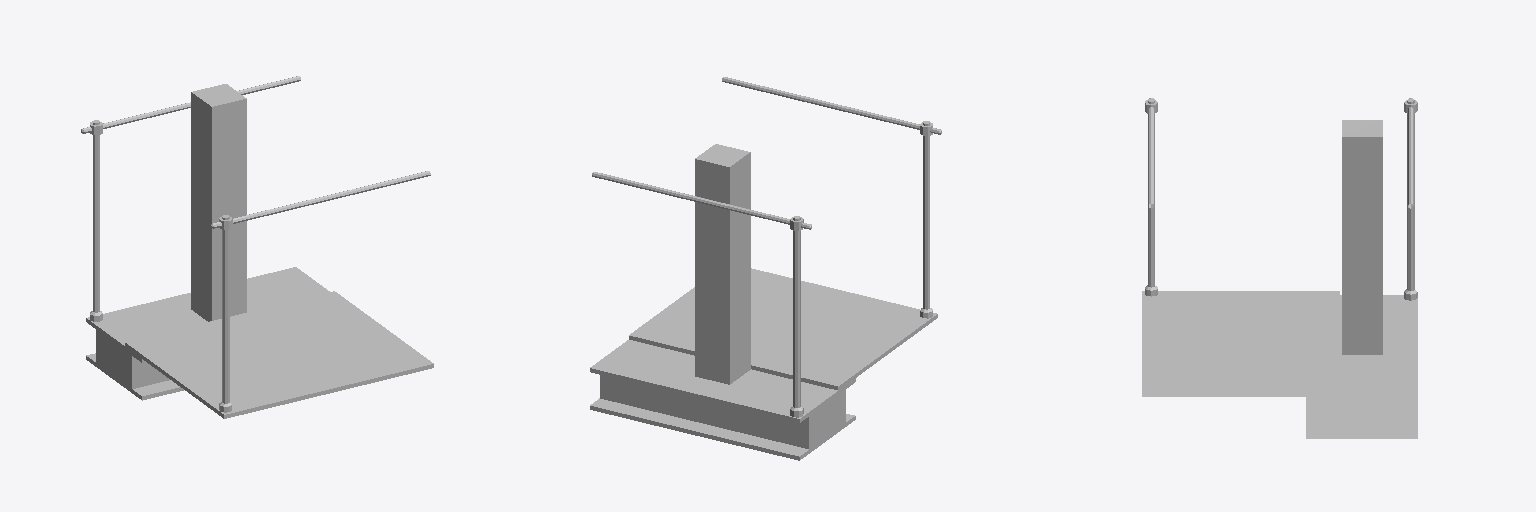
Rendered from lms_signal_gantry_platform_left_post.obj.
3 renders of one model, left to right at view 1: azimuth 30°, elevation 25°; view 2: azimuth 150°, elevation 25°; view 3: azimuth 270°, elevation 25°, orthographic.
Visible parts, largest first — view 1: Platform_Left_post_Cube.001; view 2: Platform_Left_post_Cube.001; view 3: Platform_Left_post_Cube.001.
Boxes of the visible parts, x1,y1,x2,y2 form: Platform_Left_post_Cube.001: [81, 76, 433, 418]; Platform_Left_post_Cube.001: [590, 77, 941, 460]; Platform_Left_post_Cube.001: [1142, 98, 1417, 438].
Bounding box in the file's own units: 1.04 × 1.18 × 1.14.